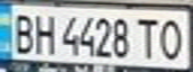2: (93, 12, 115, 59)
4: (57, 11, 81, 56), (78, 12, 96, 57)
8: (109, 13, 136, 60)
B: (6, 9, 36, 55)
H: (30, 10, 57, 55)
O: (154, 15, 190, 62)
T: (133, 15, 160, 60)
